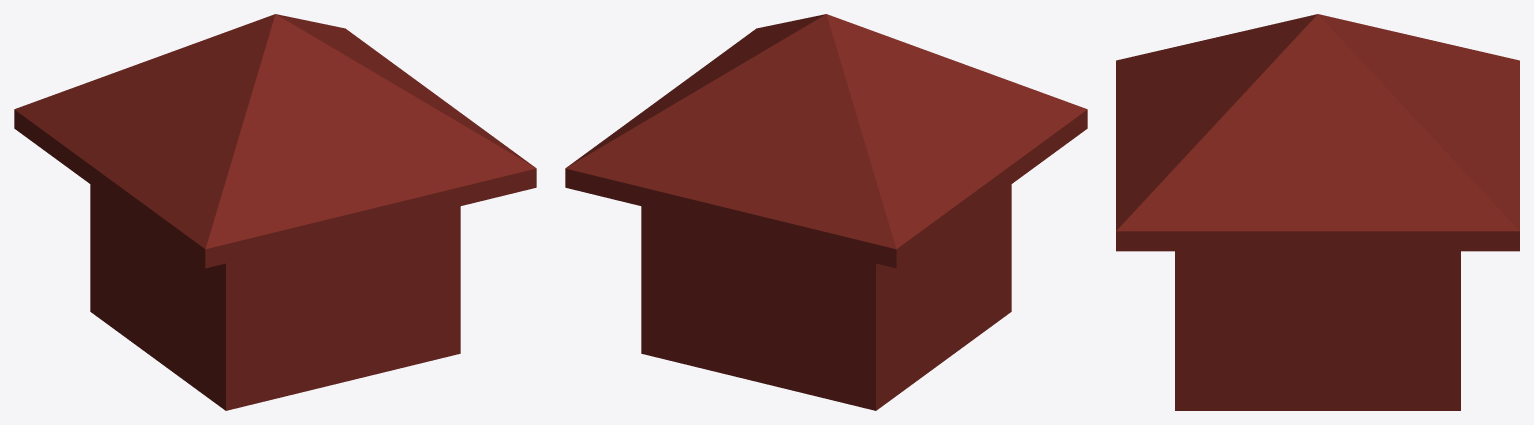
Rendered from SM_Item_Wargames_Piece_14.fbx.
3 renders of one model, left to right at view 1: azimuth 30°, elevation 25°; view 2: azimuth 150°, elevation 25°; view 3: azimuth 270°, elevation 25°, orthographic. The views are drawn at different scales.
Parts seen in each view (by area): view 1: SM_Item_Wargames_Piece_14; view 2: SM_Item_Wargames_Piece_14; view 3: SM_Item_Wargames_Piece_14.
Part boxes in pixels (x1,y1,x2,y2): SM_Item_Wargames_Piece_14: (14, 14, 536, 410); SM_Item_Wargames_Piece_14: (565, 14, 1087, 410); SM_Item_Wargames_Piece_14: (1116, 14, 1519, 410).
Size of the model in its own units: 0.1412 by 0.1299 by 0.1412.
Materials: 1 (1 with a texture image).
